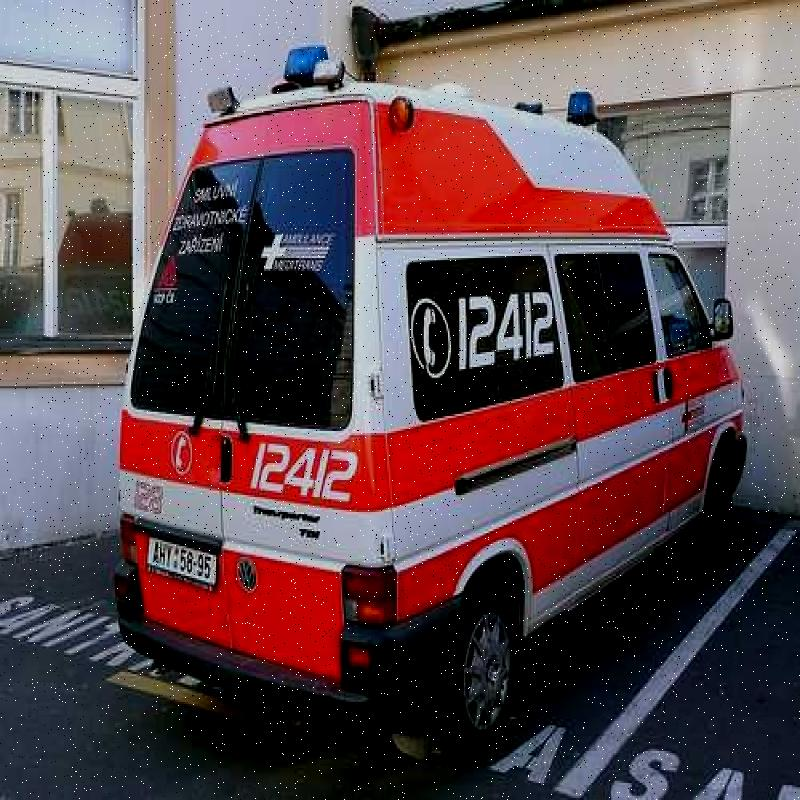AmbulanceSiren: (555, 88, 601, 133)
